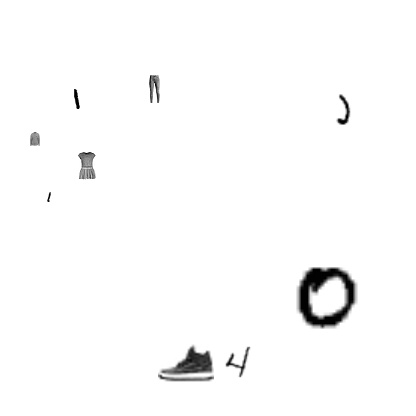3: (151, 377, 173, 399)
4: (39, 114, 95, 170)
5: (39, 288, 67, 316)
6: (257, 36, 369, 148), (19, 180, 75, 236)
8: (188, 231, 272, 315)
9: (318, 386, 346, 414), (13, 311, 27, 325)
Bag: (136, 9, 248, 121)
Coat: (372, 125, 414, 167)
